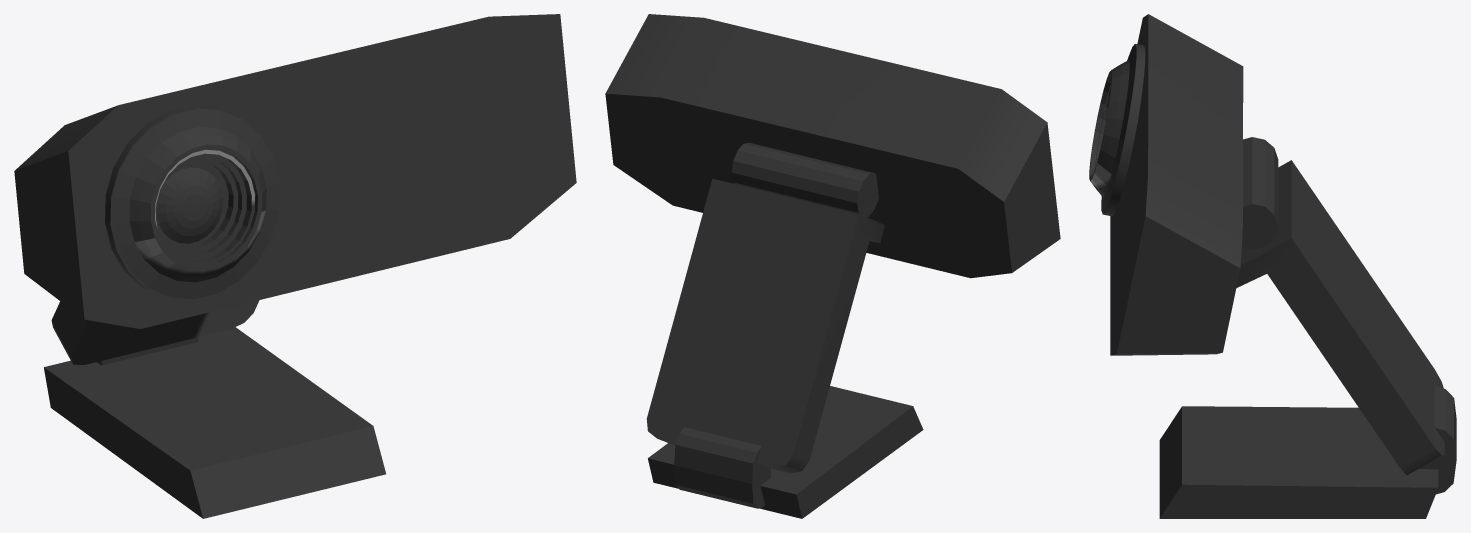
File: Webcam.fbx
3 renders of one model, left to right at view 1: azimuth 30°, elevation 25°; view 2: azimuth 150°, elevation 25°; view 3: azimuth 270°, elevation 25°, orthographic. The views are drawn at different scales.
Parts seen in each view (by area): view 1: B, A, C; view 2: B, C, A; view 3: B, A, C.
Boxes of the visible parts, x1,y1,x2,y2 form: B: (14,14,576,328); A: (44,327,385,518); C: (51,300,259,364); B: (605,14,1060,278); C: (646,142,884,473); A: (648,386,923,518); B: (1089,14,1243,355); A: (1159,386,1456,518); C: (1236,137,1444,475).
Bounding box in the file's own units: 12.09 × 10.31 × 8.86.
